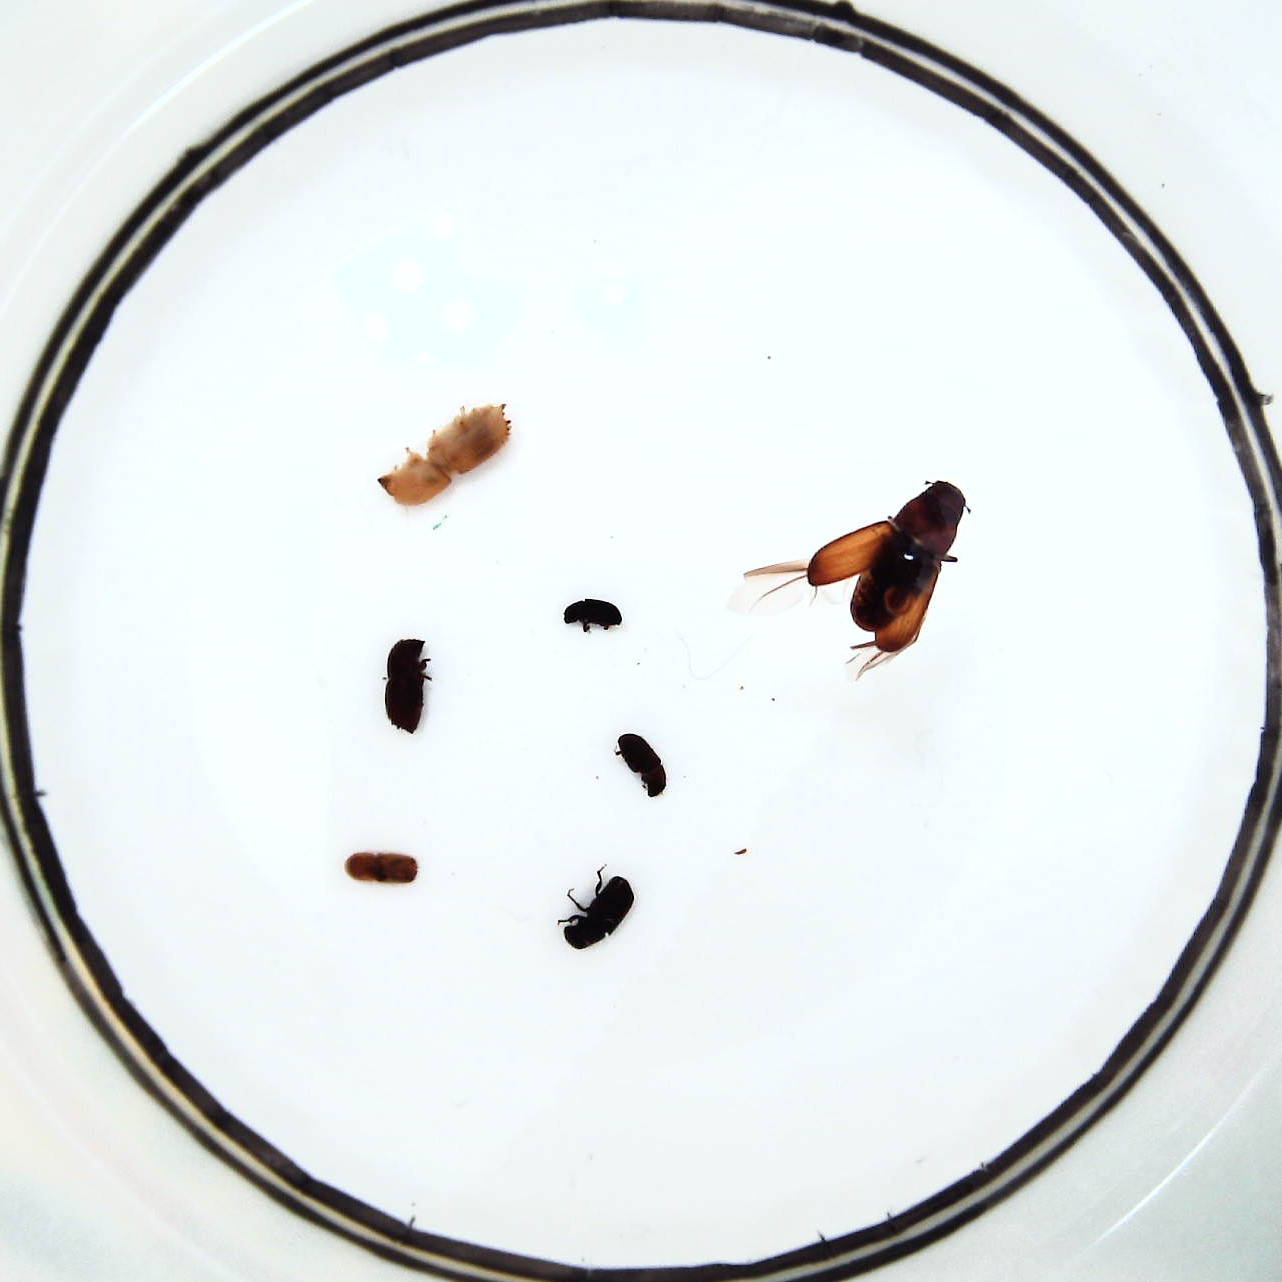Boerner: (382, 402, 510, 506)
Leconte: (807, 479, 966, 661)
Linnaeus: (384, 637, 429, 734)
acuminatus: (339, 848, 421, 886)
armandi: (561, 877, 634, 952)
coleoptera: (618, 734, 667, 799), (564, 598, 621, 634)
